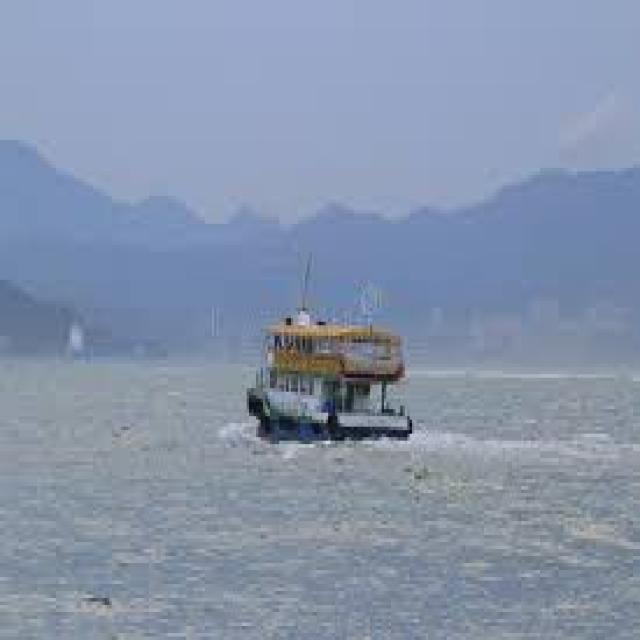passenger ship: (248, 280, 411, 453)
